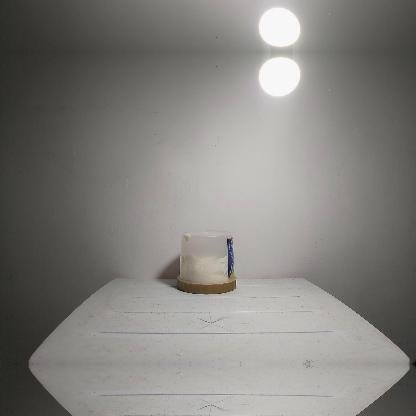Lady-s-Choice: (176, 228, 238, 294)
